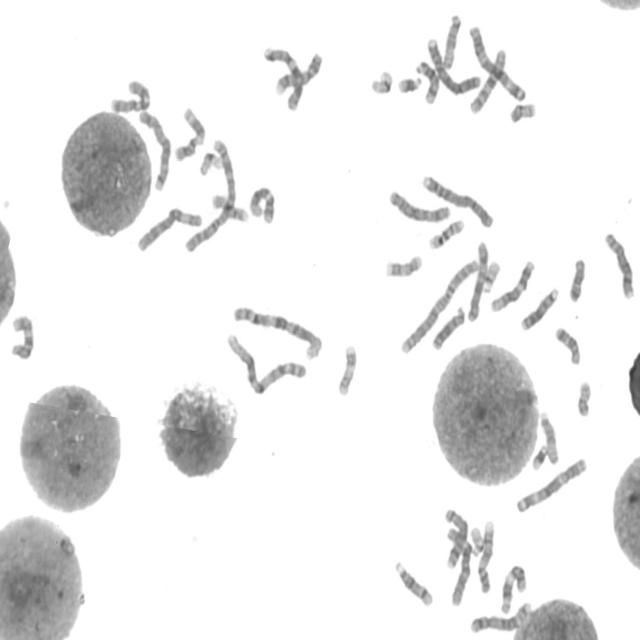A1: (230, 300, 324, 362), (223, 328, 307, 396)
A2: (397, 254, 481, 356), (182, 134, 237, 255)
A3: (466, 21, 528, 103), (512, 452, 588, 515)
B4: (419, 170, 495, 230), (423, 34, 482, 96)
B5: (135, 105, 173, 193), (467, 598, 534, 634)
C10: (466, 44, 508, 115), (8, 309, 36, 361)
C11: (170, 101, 207, 164), (498, 559, 528, 615)
C12: (488, 256, 536, 314), (246, 182, 276, 225)
C6: (134, 203, 203, 253), (444, 520, 474, 608)
C7: (260, 41, 306, 113), (110, 77, 154, 115)
C8: (601, 228, 636, 301), (442, 505, 470, 570)
C9: (272, 48, 324, 97), (475, 516, 496, 594)
D13: (518, 284, 560, 332), (428, 301, 466, 352)
D14: (392, 556, 434, 608), (412, 56, 441, 105)
D15: (439, 9, 463, 70), (537, 406, 560, 466)
E16: (208, 188, 250, 224), (426, 214, 466, 250)
E17: (334, 340, 358, 398), (382, 250, 423, 279)
E18: (552, 322, 582, 367), (566, 253, 588, 304)
F19: (368, 65, 394, 96), (196, 149, 223, 176)
F20: (574, 376, 593, 418), (508, 98, 538, 124)
G21: (528, 439, 550, 472), (395, 71, 424, 95)
G22: (480, 256, 502, 294), (467, 521, 485, 557)
X: (386, 185, 452, 224), (464, 236, 490, 322)
